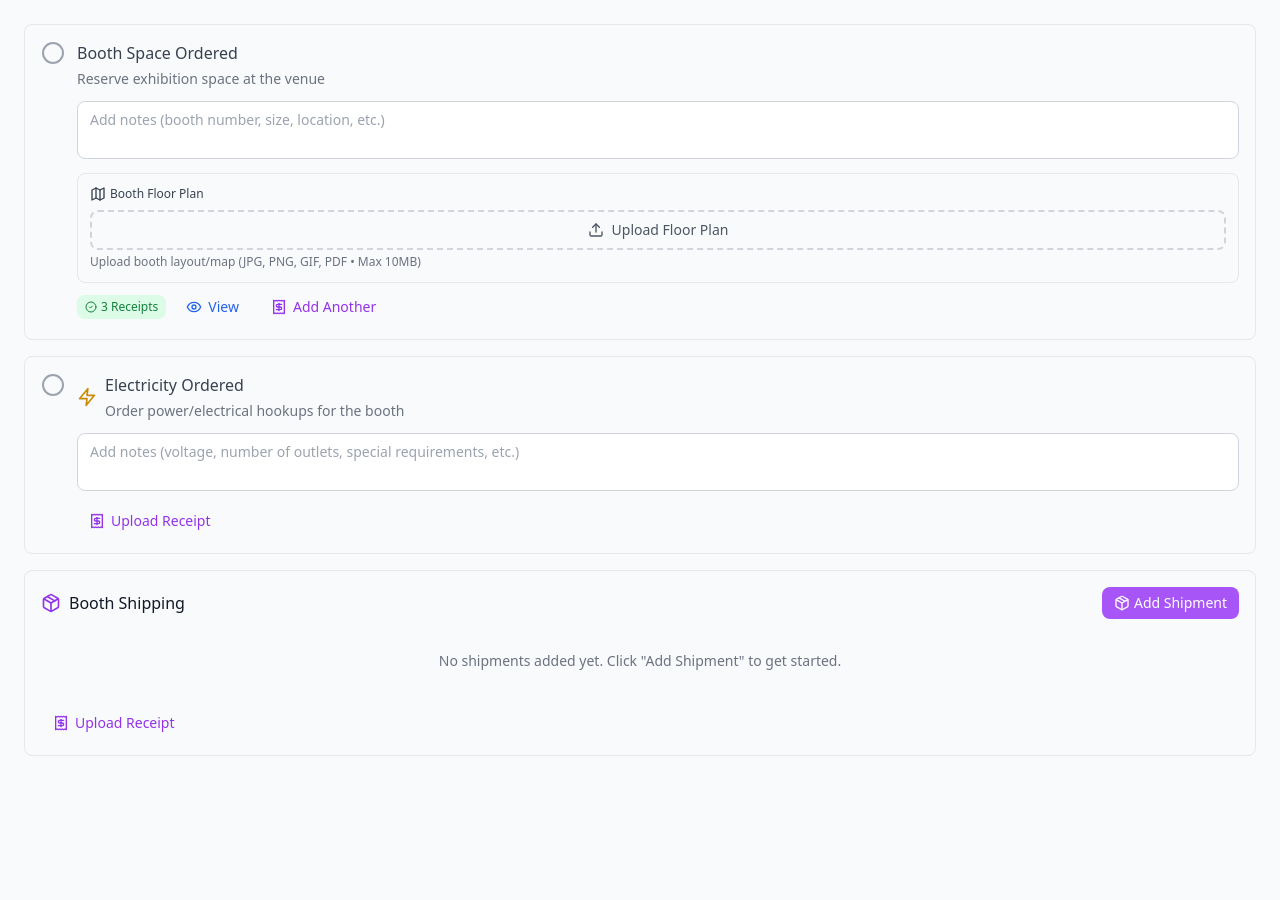
Test: Receipt Filtering Tests › Booth Section Receipt Filtering › should filter receipts with receiptUrl correctly
expect the text "3 Receipts" is shown: met, box left=77, top=295, right=166, bottom=319
Click the button titled "View receipt".
click(213, 307)  # box left=174, top=291, right=251, bottom=323
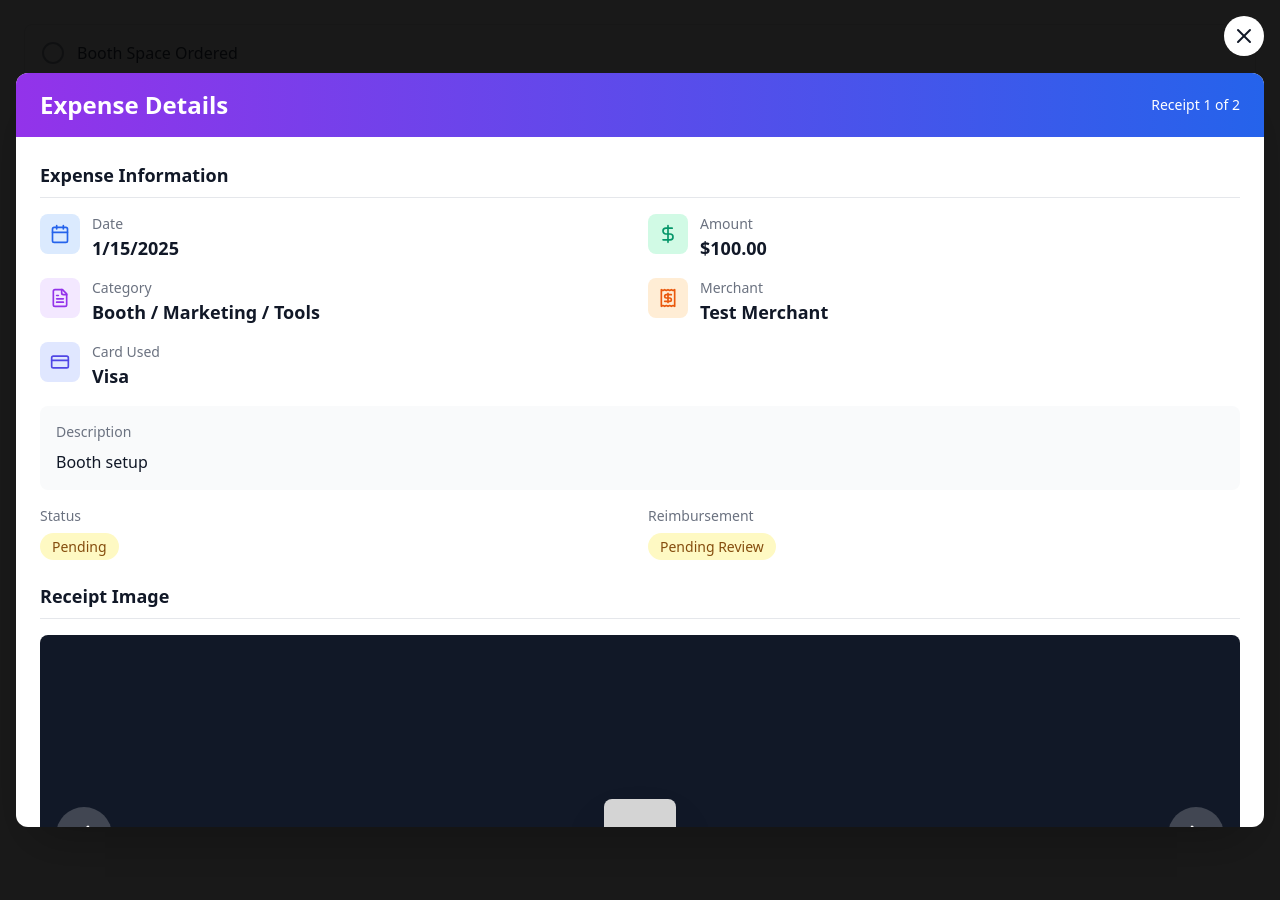
expect the text "Receipt 1 of 2" is shown: met, box left=1151, top=95, right=1240, bottom=115
